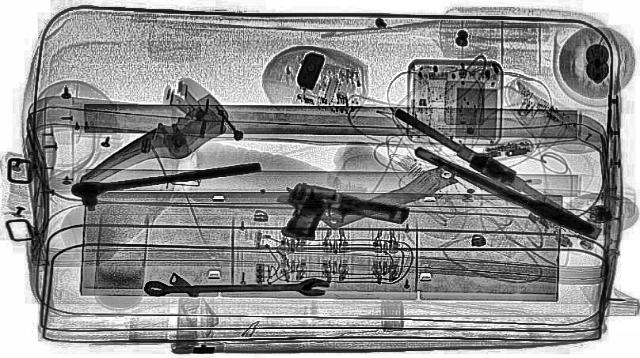Gun: (252, 180, 416, 254)
Wrench: (144, 277, 330, 297)
